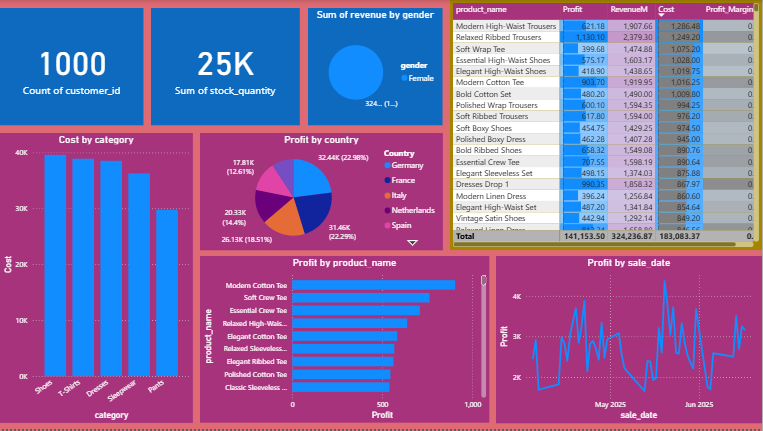

Layout of this report page (visuals, bound fields, positions):
{"tool":"powerbi","page":{"name":"Dashboard2","canvas":[1280,720],"ordinal":6},"visuals":[{"type":"card","fields":{"Values":["CountNonNull(public store_customer.customer_id)"]},"box":[0,13.5,241.2,197.3],"z":0},{"type":"card","fields":{"Values":["Sum(public store_stock.stock_quantity)"]},"box":[253,13.5,249.6,197.3],"z":1000},{"type":"pieChart","fields":{"Y":["Sum(public store_salesitems.revenue)"],"Category":["public store_products.gender"]},"box":[517.7,13.5,226,197.3],"z":2000},{"type":"clusteredColumnChart","fields":{"Y":["public store_salesitems.Cost"],"Category":["public store_products.category"]},"box":[0,222.6,323.8,487.4],"z":3000},{"type":"pivotTable","fields":{"Rows":["public store_products.product_name"],"Values":["public store_salesitems.Profit","public store_salesitems.RevenueM","public store_salesitems.Cost","public store_channels.Profit_Margin %"]},"box":[755.5,0,524.5,419.9],"z":4000},{"type":"pieChart","fields":{"Category":["public store_customer.country"],"Y":["public store_salesitems.Profit"]},"box":[335.6,222.6,408.1,197.3],"z":5000},{"type":"lineChart","fields":{"Y":["public store_salesitems.Profit"],"Category":["public store_salesitems.sale_date"]},"box":[833.2,430,446.8,280.5],"z":6000},{"type":"barChart","fields":{"Category":["public store_products.product_name"],"Y":["public store_salesitems.Profit"]},"box":[335.6,430,485.7,279.9],"z":7000}]}

Visuals, with their boxes in screenshot pixels (x1, y1, x2, y2), scaled from the page's 1280x720 canvas onto the 763x431 screenshot:
card - CountNonNull(public store_customer.customer_id): Rect(0, 8, 144, 126)
card - Sum(public store_stock.stock_quantity): Rect(151, 8, 300, 126)
pieChart - Sum(public store_salesitems.revenue) x public store_products.gender: Rect(309, 8, 443, 126)
clusteredColumnChart - public store_salesitems.Cost x public store_products.category: Rect(0, 133, 193, 425)
pivotTable - public store_products.product_name x public store_salesitems.Profit: Rect(450, 0, 762, 251)
pieChart - public store_customer.country x public store_salesitems.Profit: Rect(200, 133, 443, 251)
lineChart - public store_salesitems.Profit x public store_salesitems.sale_date: Rect(497, 257, 762, 425)
barChart - public store_products.product_name x public store_salesitems.Profit: Rect(200, 257, 490, 425)
